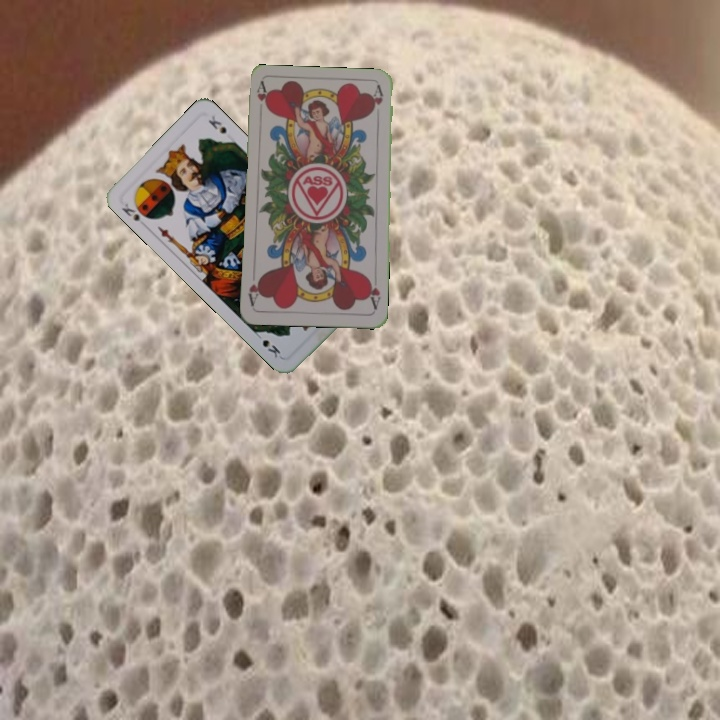HA: (364, 273, 383, 312), (253, 79, 270, 112)
SK: (118, 198, 142, 224)
